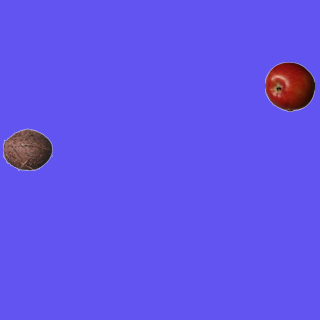Apple Braeburn: (264, 61, 314, 111)
Cocos: (2, 124, 52, 174)
